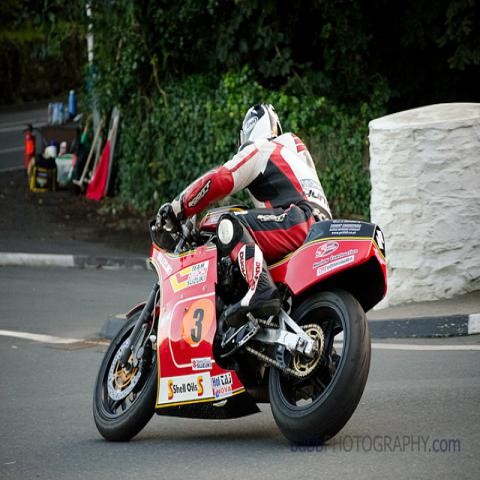motorcycle: (92, 207, 385, 446)
